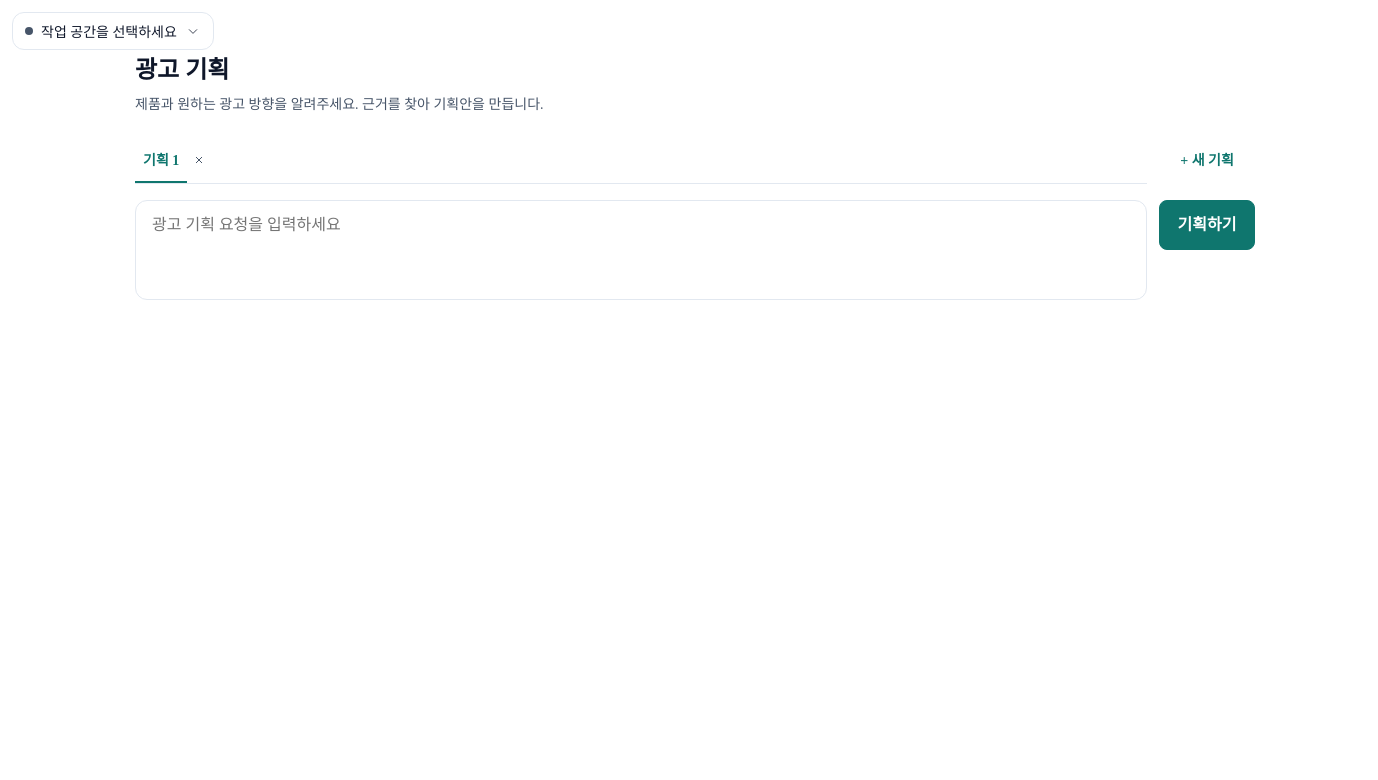
Test: closes the actual conversation choice without a new request or duplicate token
Click the button "작업 공간을 선택하세요": click(113, 31) [12, 12, 214, 50]
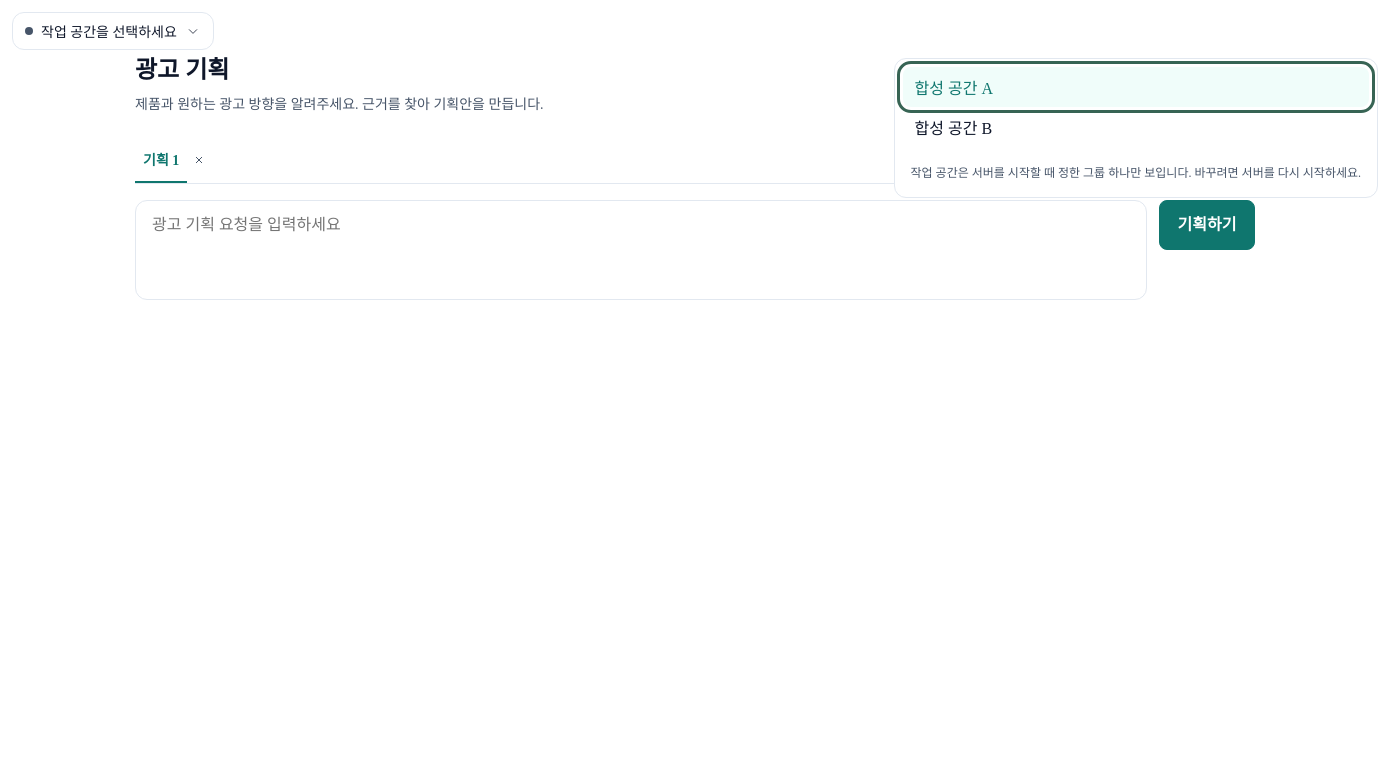
Click the option "합성 공간 A": click(954, 88) [902, 67, 1369, 107]
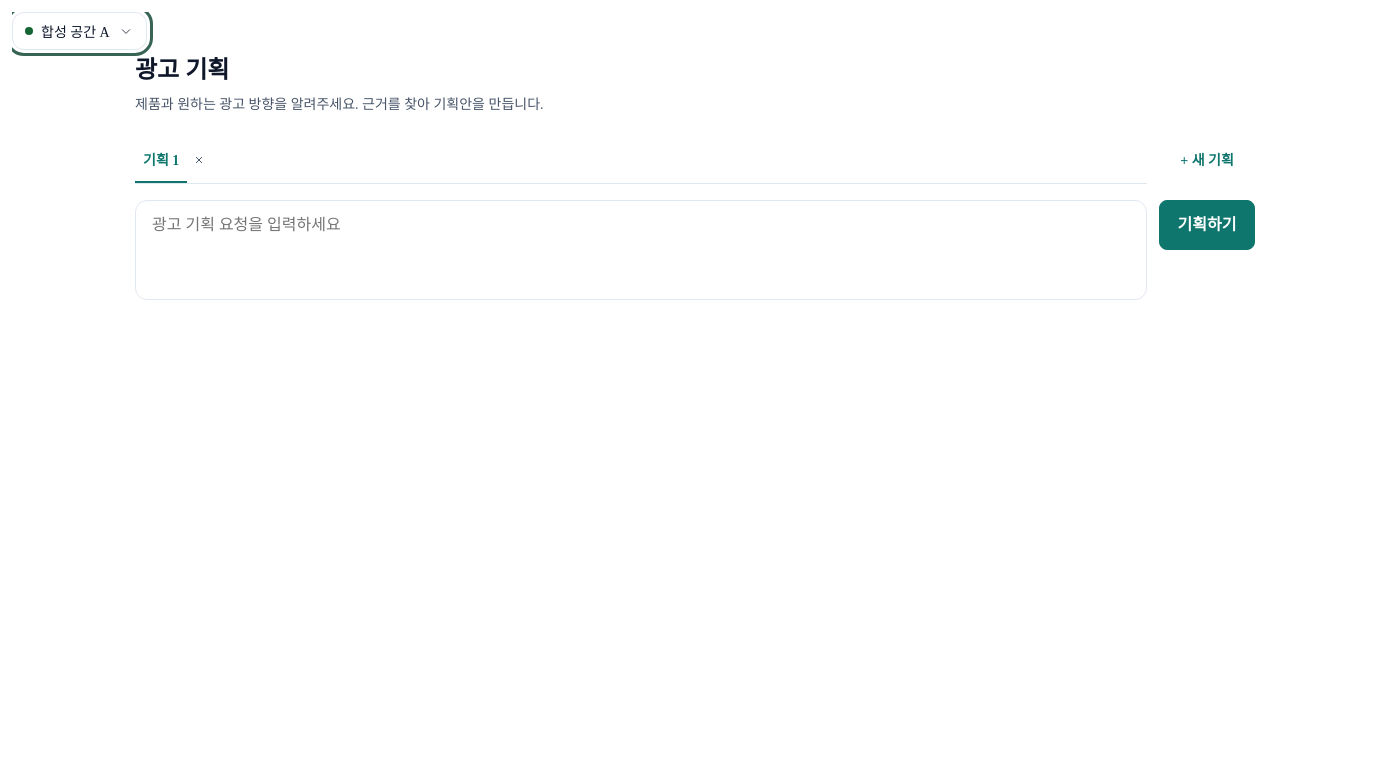
In the text box labelled "요청": (641, 250) [135, 200, 1147, 300], type "합성 사용자 요청"
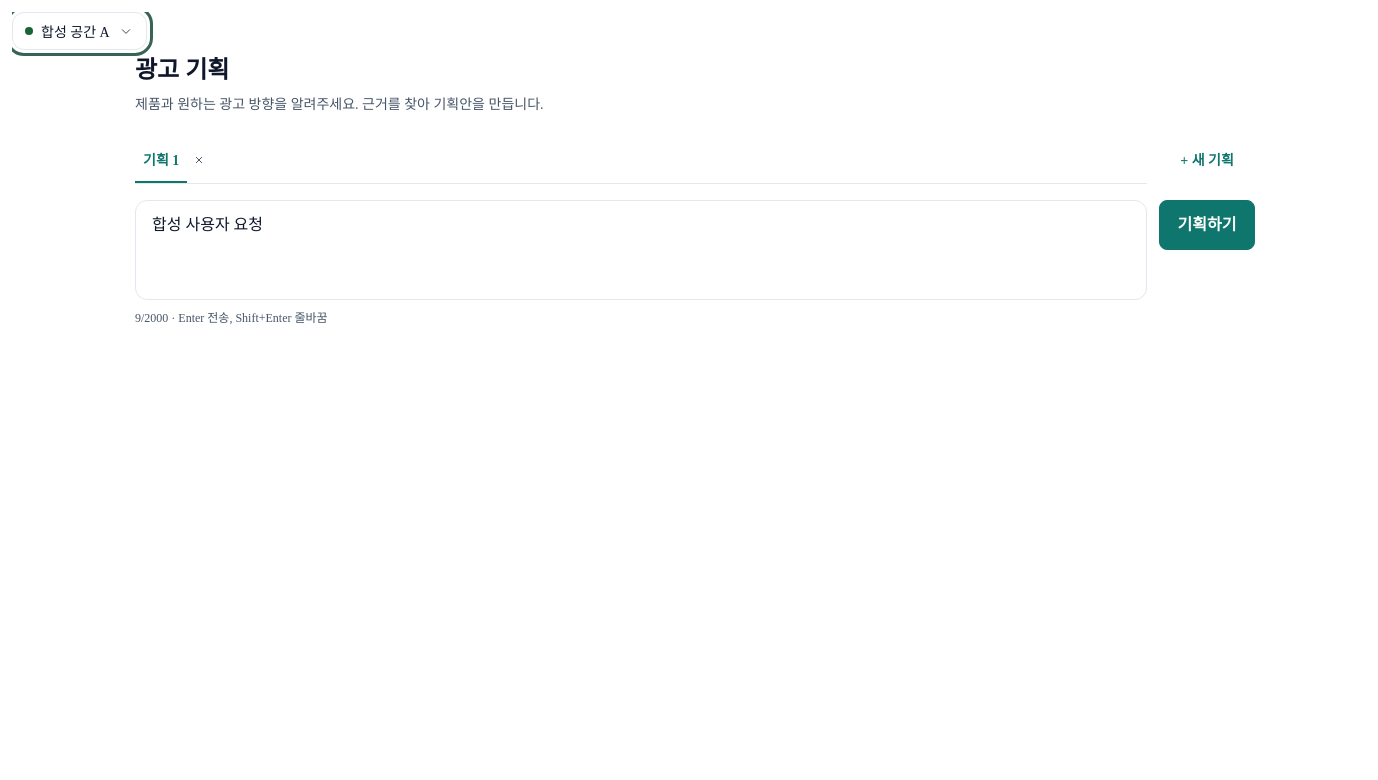
Click the button "기획하기": click(1207, 225) [1159, 200, 1255, 250]
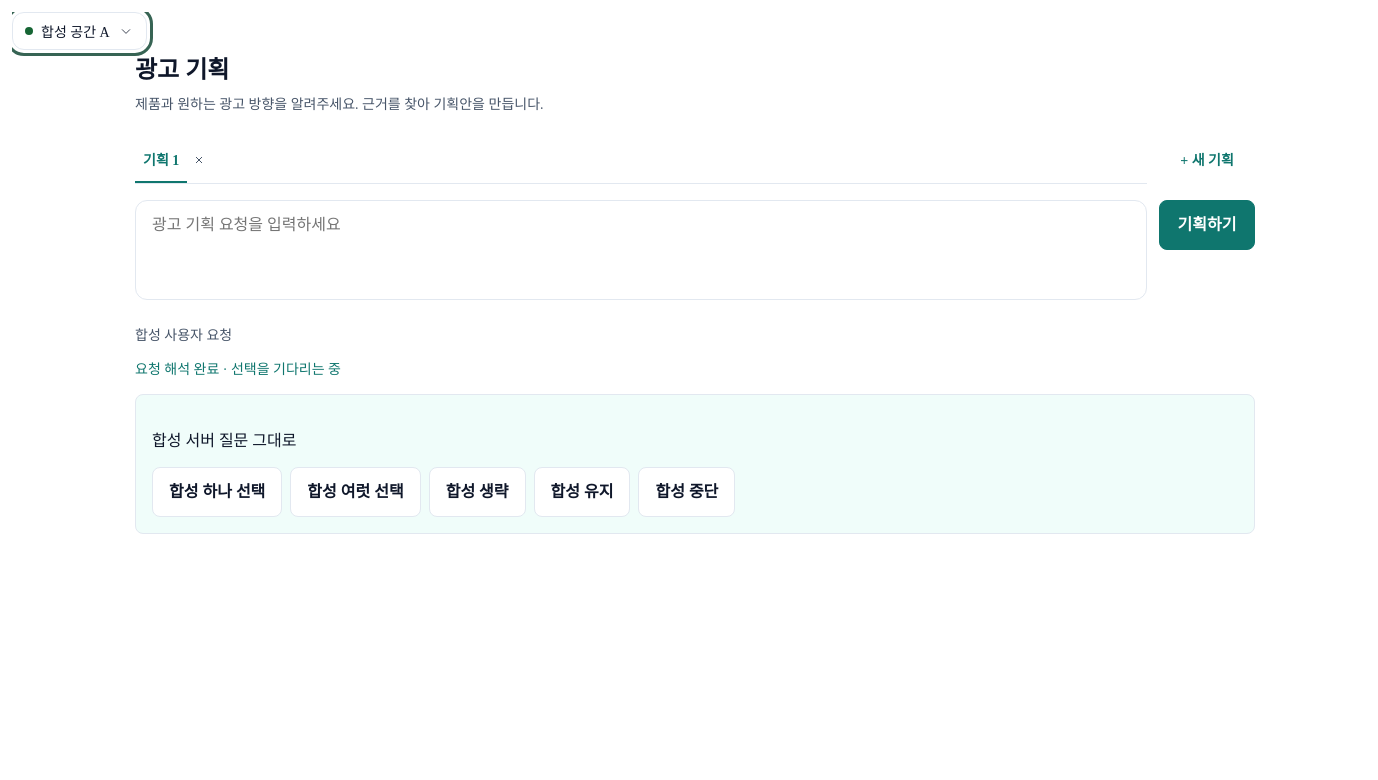
Now the text box labelled "요청" is enabled, box [135, 200, 1147, 300]
Now the text "합성 서버 질문 그대로" is shown once, box [152, 432, 296, 449]
Click the button "합성 중단": click(687, 492) [638, 467, 735, 517]
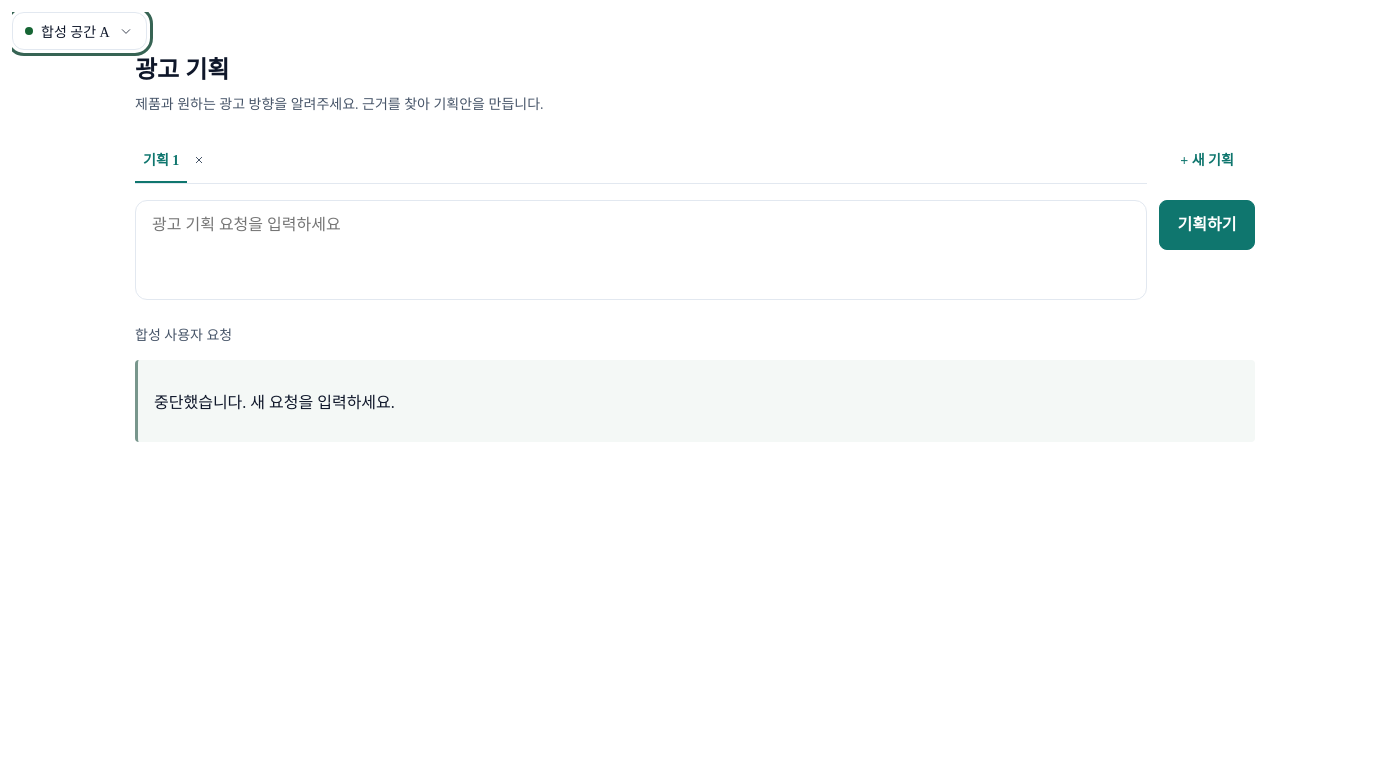
Now the button "합성 중단" is gone
Now the text "중단했습니다. 새 요청을 입력하세요." is shown, box [154, 394, 395, 411]
